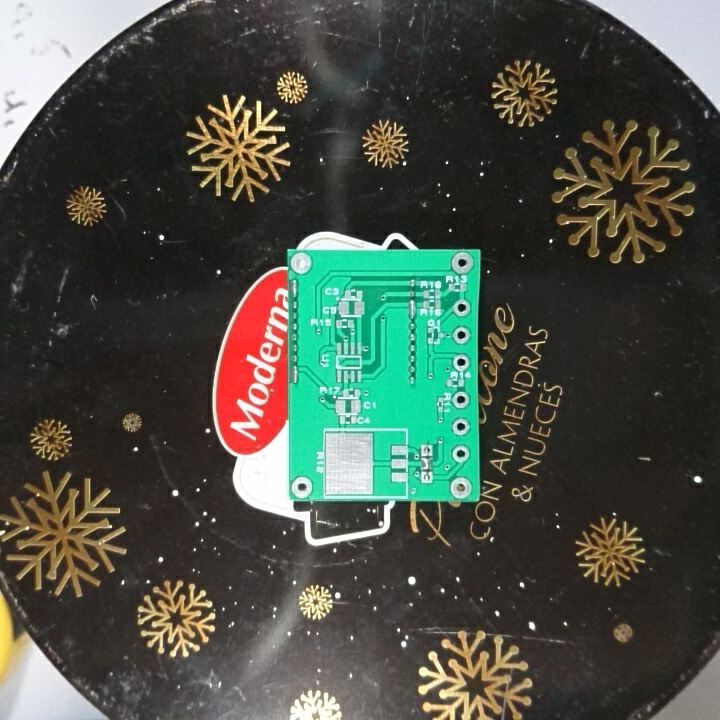F: (287, 249, 316, 277), (450, 251, 476, 277), (291, 474, 316, 498), (449, 416, 473, 439), (450, 475, 473, 498), (450, 389, 472, 412), (450, 326, 472, 347), (450, 350, 470, 372), (453, 296, 472, 319), (450, 443, 470, 464), (417, 441, 436, 460), (419, 469, 437, 487)
P: (289, 363, 301, 386), (289, 276, 301, 298), (407, 298, 419, 320)
